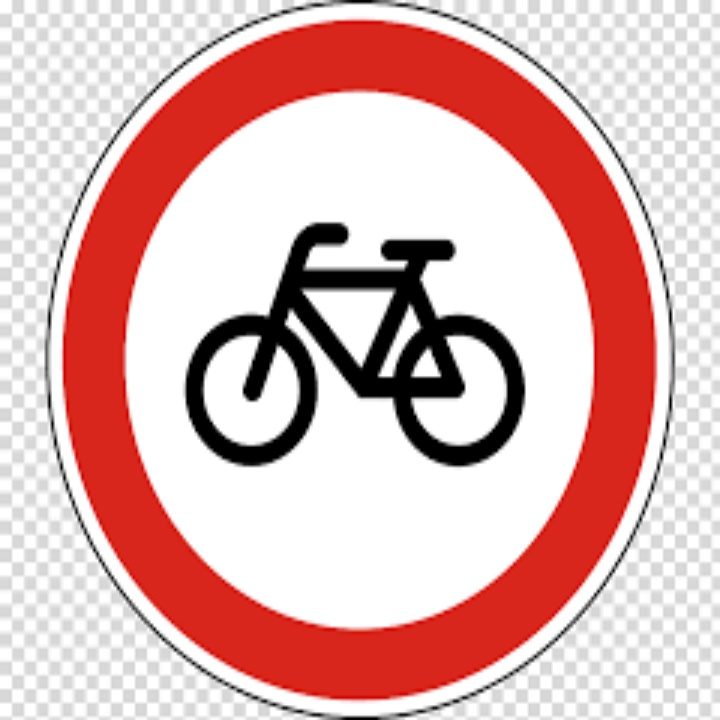bicycle: (175, 179, 537, 541)
